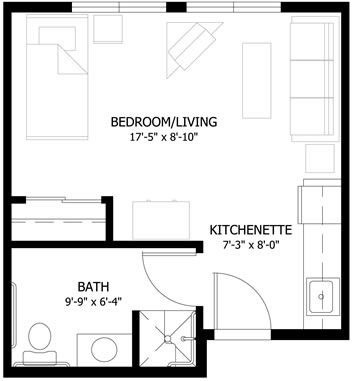door: (209, 268, 273, 339), (135, 250, 207, 310)
room: (181, 12, 355, 337), (6, 2, 179, 244), (2, 242, 213, 375)
wall: (339, 4, 355, 333), (2, 1, 11, 375), (1, 365, 207, 379), (3, 239, 205, 253), (278, 1, 355, 18), (270, 327, 354, 342), (194, 305, 211, 378), (1, 1, 72, 17), (128, 309, 143, 367), (101, 191, 117, 242), (166, 1, 187, 15), (10, 193, 28, 206)
window: (187, 1, 281, 17), (71, 1, 169, 16)
